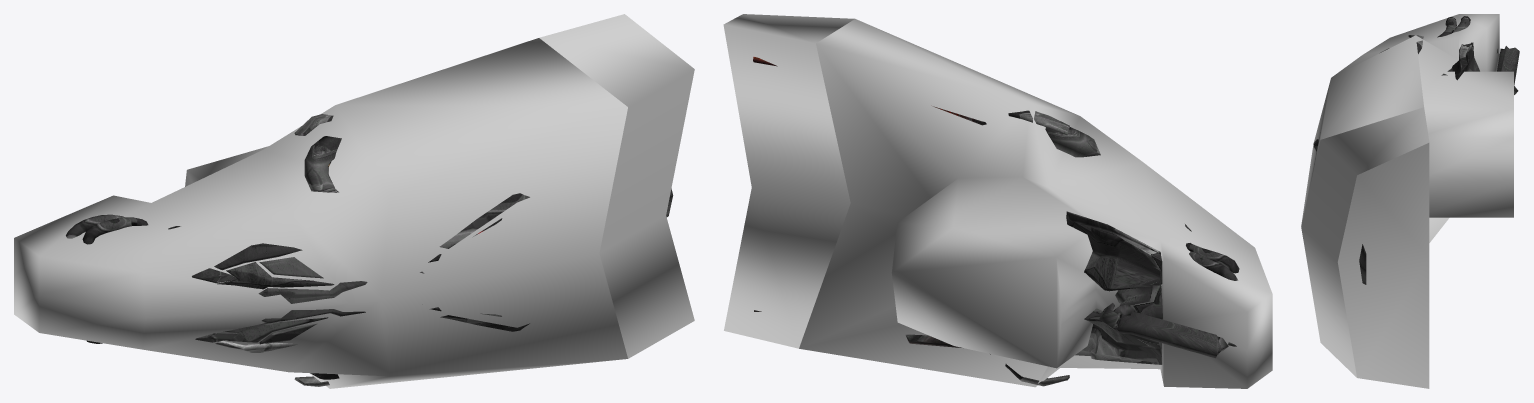
The model's file is gunship_whitebox.fbx.
The picture shows the model from 3 angles, left to right: view 1: azimuth 30°, elevation 25°; view 2: azimuth 150°, elevation 25°; view 3: azimuth 270°, elevation 25°; orthographic projection. The views are drawn at different scales.
Parts seen in each view (by area): view 1: 0000_gunship_whitebox, 0001_gunship_whitebox, 0002_gunship_whitebox; view 2: 0000_gunship_whitebox, 0001_gunship_whitebox, 0002_gunship_whitebox; view 3: 0000_gunship_whitebox, 0001_gunship_whitebox.
Part boxes in pixels (bbox=[...]): 0000_gunship_whitebox: bbox=[14, 14, 694, 388]; 0001_gunship_whitebox: bbox=[66, 157, 673, 352]; 0002_gunship_whitebox: bbox=[294, 114, 341, 386]; 0000_gunship_whitebox: bbox=[723, 14, 1272, 388]; 0001_gunship_whitebox: bbox=[1066, 211, 1239, 364]; 0002_gunship_whitebox: bbox=[753, 57, 1100, 386]; 0000_gunship_whitebox: bbox=[1301, 14, 1513, 388]; 0001_gunship_whitebox: bbox=[1313, 16, 1519, 284].
Size of the model in its own units: 26.81 by 13.38 by 10.64.
